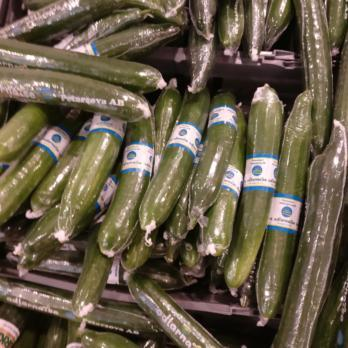Cucumber: (0, 1, 348, 348)
